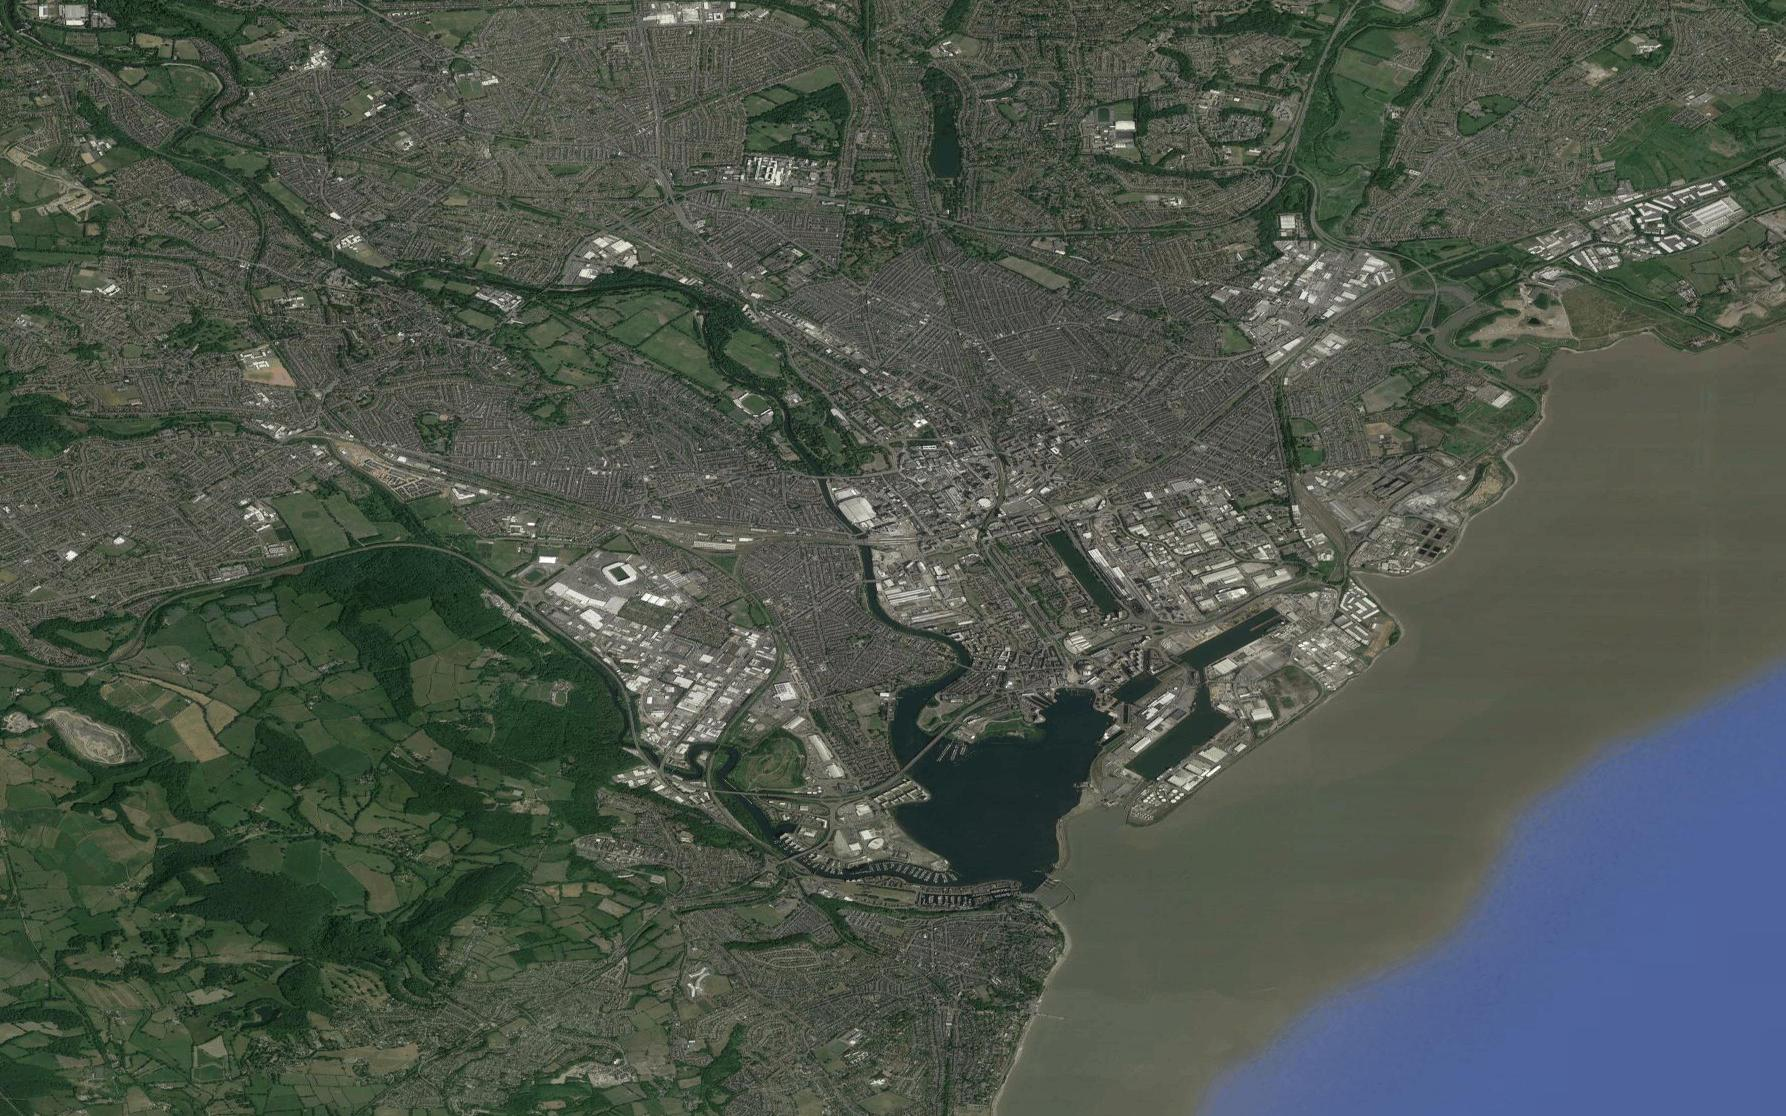bridge: (901, 732, 949, 784), (852, 534, 872, 549), (861, 576, 879, 585)
harbor: (1013, 679, 1129, 742)
industrial: (1093, 477, 1286, 606), (1242, 230, 1387, 355), (624, 591, 764, 672)
train_station: (870, 526, 925, 549)
